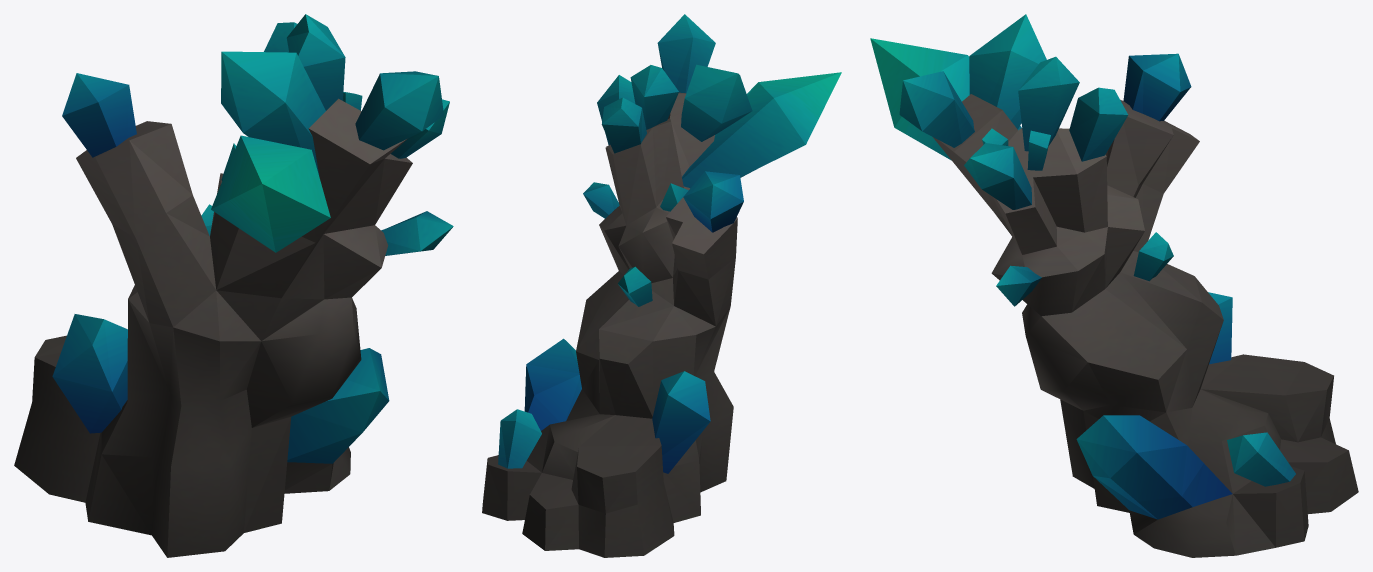
Rendered from ZLP_Crystalk_A_8.FBX.
The picture shows the model from 3 angles, left to right: view 1: azimuth 30°, elevation 25°; view 2: azimuth 150°, elevation 25°; view 3: azimuth 270°, elevation 25°; orthographic projection. The views are drawn at different scales.
Visible parts, largest first — view 1: ZLP_Crystalk_A_8; view 2: ZLP_Crystalk_A_8; view 3: ZLP_Crystalk_A_8.
Part boxes in pixels (x1=…): ZLP_Crystalk_A_8: x1=14, y1=14, x2=453, y2=557; ZLP_Crystalk_A_8: x1=482, y1=14, x2=841, y2=557; ZLP_Crystalk_A_8: x1=870, y1=14, x2=1358, y2=557.
Size of the model in its own units: 133 by 216 by 213.
